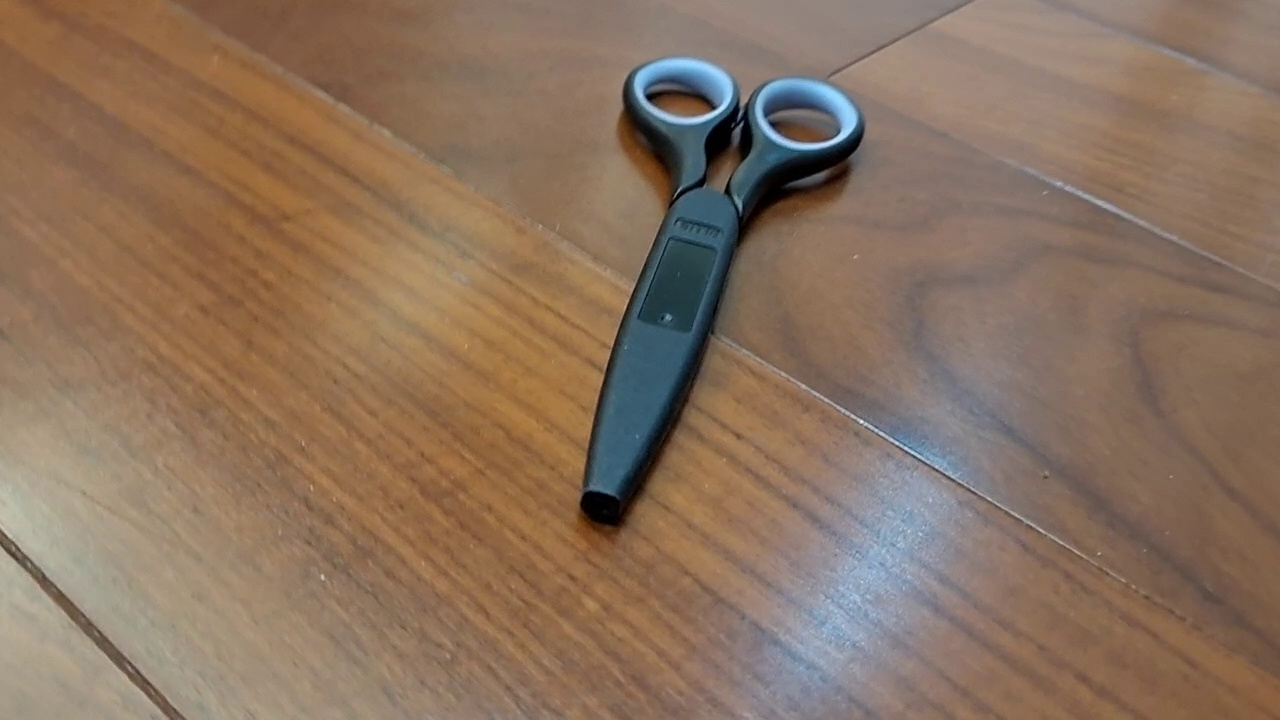scissors: (579, 54, 866, 527)
